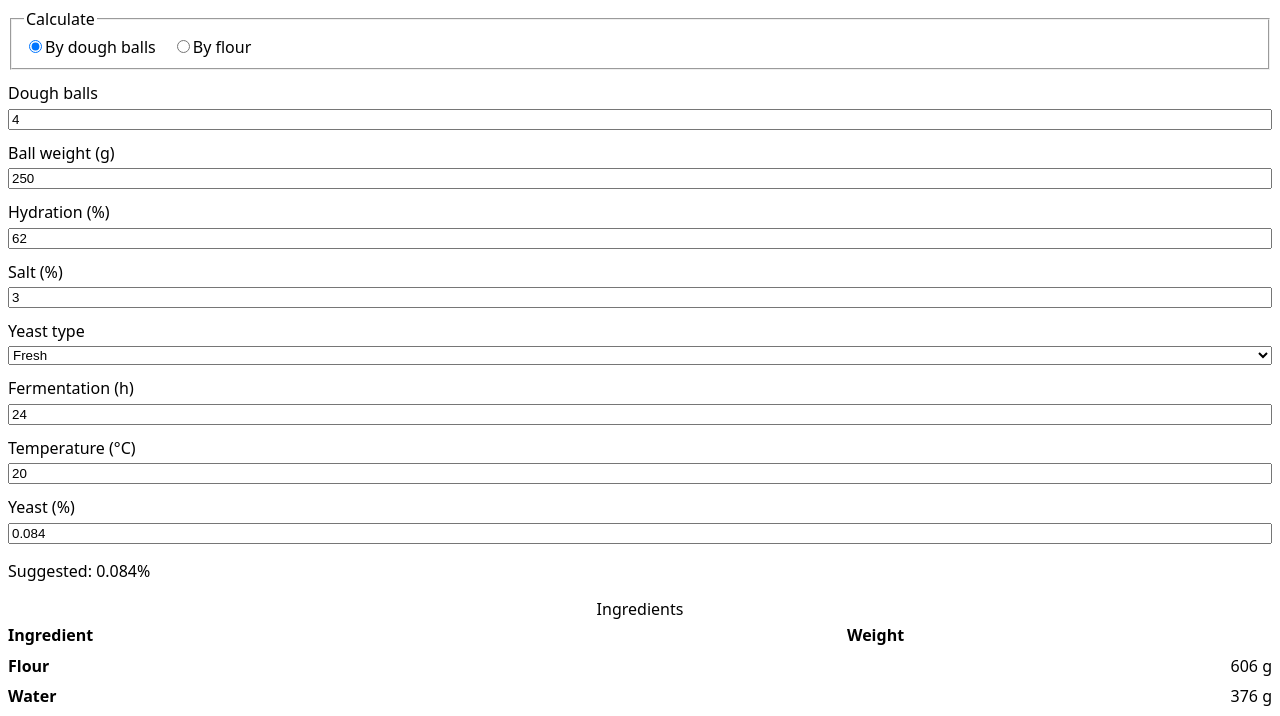
Test: Calculator › warns when the fermentation is outside the range the yeast model covers
Expected: the text "outside the range" is not shown
Replace the text in the number field labelled "Fermentation (h)" with "120": (640,414) [8, 404, 1272, 425]
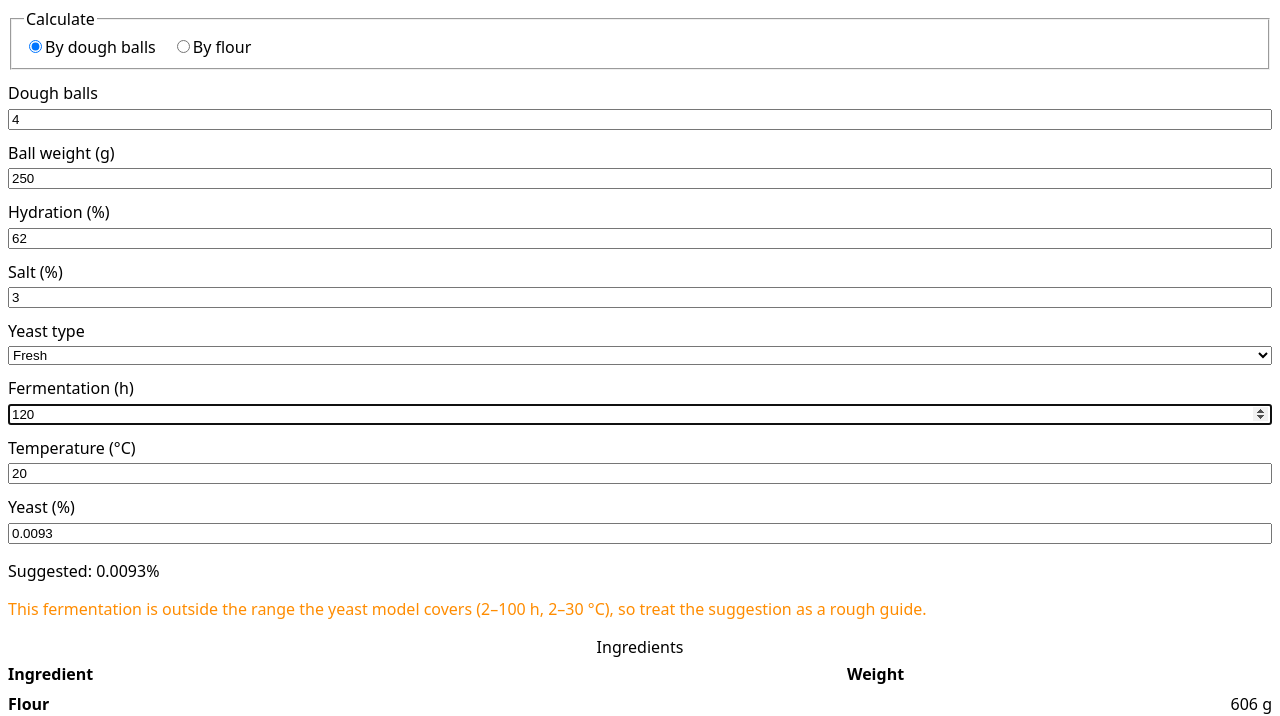
Now the text "outside the range" is shown, box [8, 598, 927, 620]
